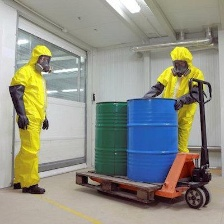person: (8, 41, 57, 198)
